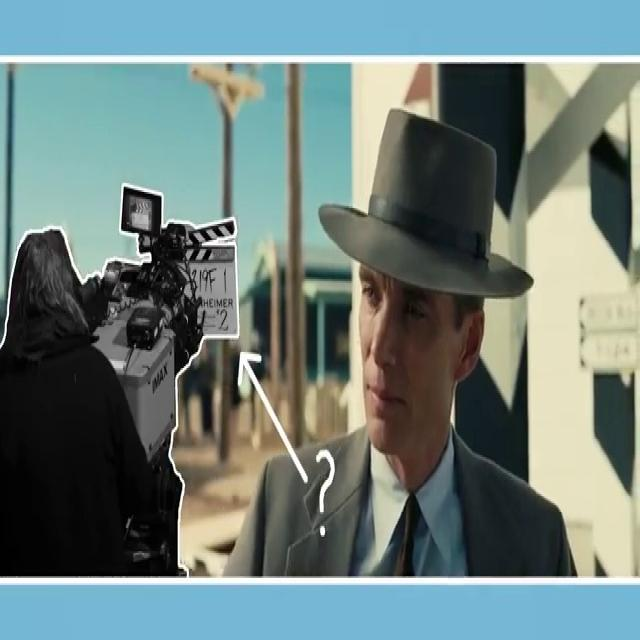Clapperboard: (175, 219, 243, 339)
